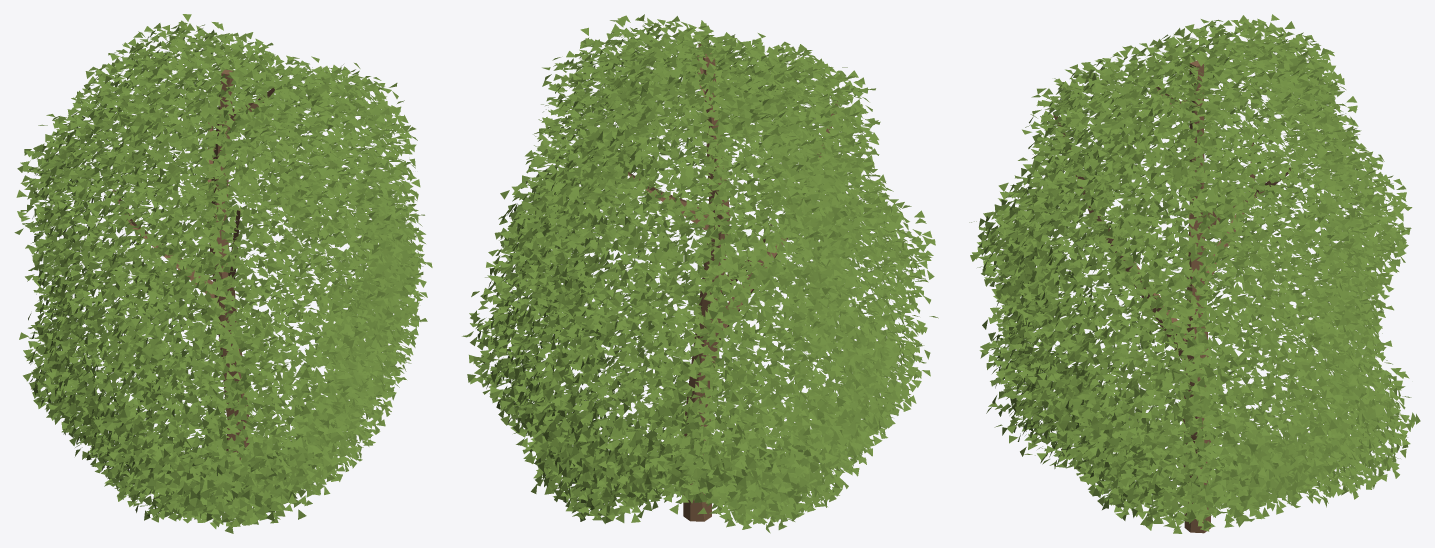
The model's file is tree-oak-1-1.glb.
3 renders of one model, left to right at view 1: azimuth 30°, elevation 25°; view 2: azimuth 150°, elevation 25°; view 3: azimuth 270°, elevation 25°, orthographic. The views are drawn at different scales.
Visible parts, largest first — view 1: tree/oak@1/1; view 2: tree/oak@1/1; view 3: tree/oak@1/1.
Part boxes in pixels (bbox=[...]): tree/oak@1/1: bbox=[14, 14, 432, 533]; tree/oak@1/1: bbox=[462, 14, 938, 533]; tree/oak@1/1: bbox=[969, 14, 1420, 533].
Size of the model in its own units: 4214 by 4972 by 4184.
